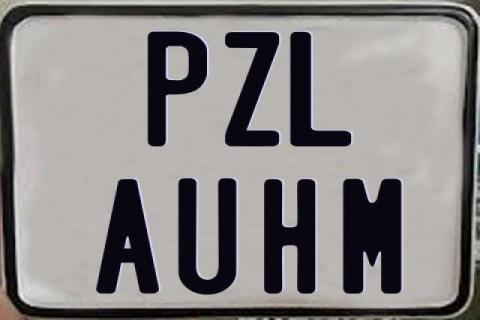A: (95, 180, 161, 294)
H: (261, 177, 314, 293)
L: (290, 32, 352, 148)
M: (342, 178, 403, 294)
P: (146, 29, 210, 149)
U: (178, 178, 237, 298)
Z: (225, 31, 283, 147)
